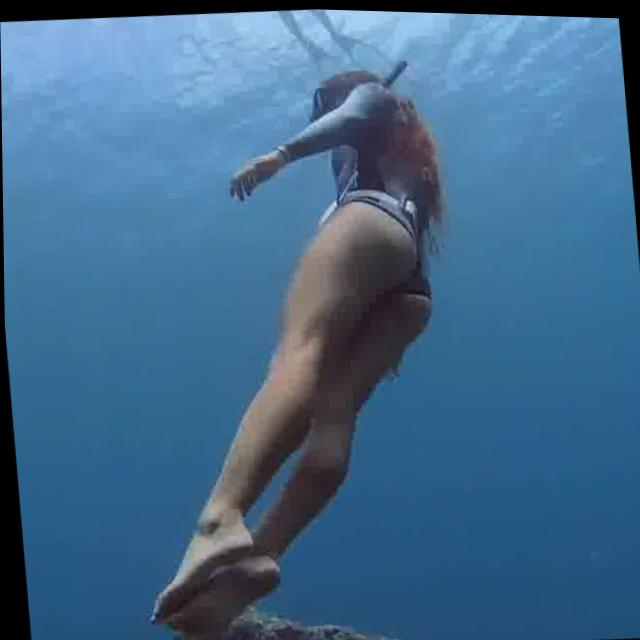human: (73, 38, 486, 640)
